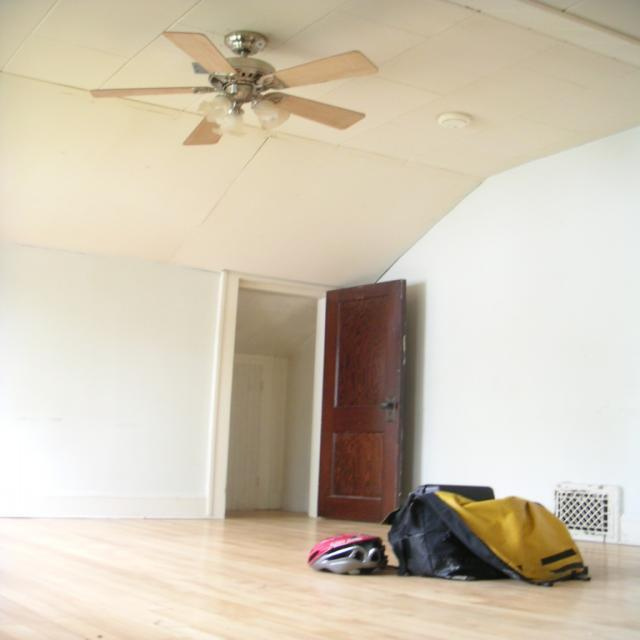fan_off: (95, 27, 378, 145)
